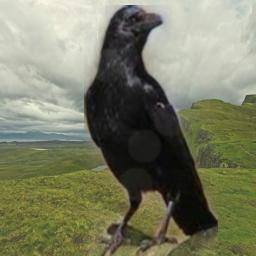Crow: (84, 5, 218, 256)
